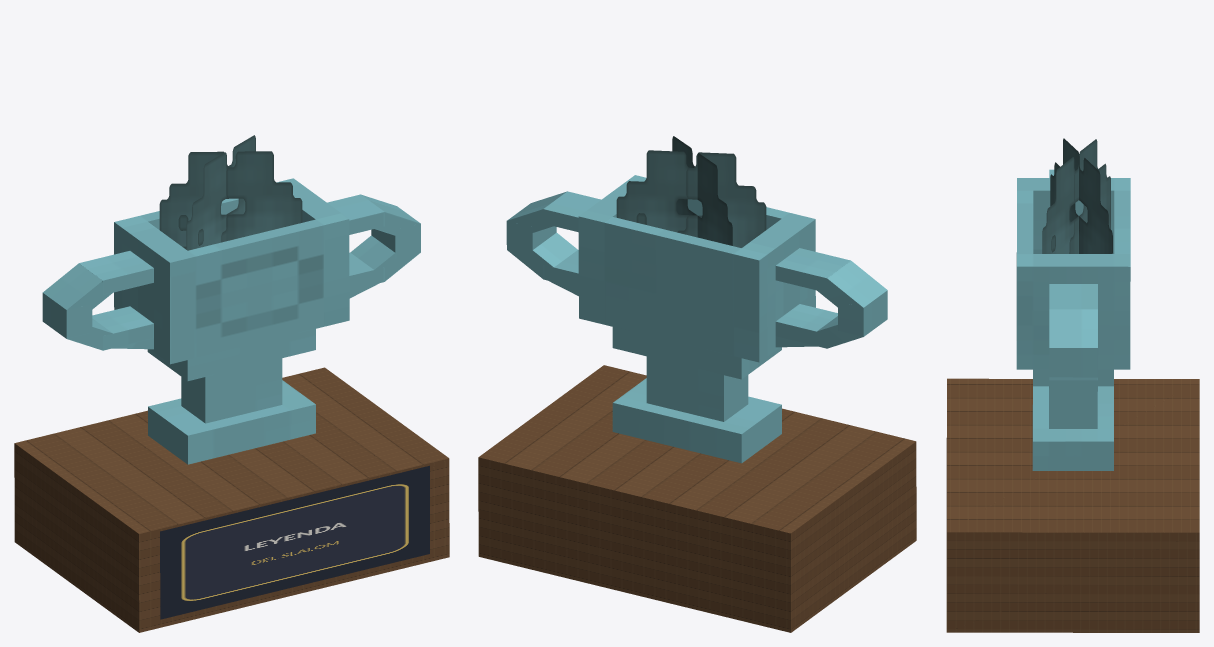
File: Leyenda_del_slalom.obj
3 views of the same model, side by side, from view 1: azimuth 30°, elevation 25°; view 2: azimuth 150°, elevation 25°; view 3: azimuth 270°, elevation 25° (orthographic).
Visible parts, largest first — view 1: 35_Peana_Leyenda_del_Slalom, 35_PeanaTexto_Leyenda_del_Slalom, 36_ModeloOriginalSketchfab_Leyenda_del_Slalom_cube_1, 36_ModeloOriginalSketchfab_Leyenda_del_Slalom_cube_3, 36_ModeloOriginalSketchfab_Leyenda_del_Slalom_cube_20, 36_ModeloOriginalSketchfab_Leyenda_del_Slalom_cube_18, 36_ModeloOriginalSketchfab_Leyenda_del_Slalom_cube_17, 36_ModeloOriginalSketchfab_Leyenda_del_Slalom_cube_2, 36_ModeloOriginalSketchfab_Leyenda_del_Slalom_cube_19, 36_ModeloOriginalSketchfab_Leyenda_del_Slalom_cube_16, 36_ModeloOriginalSketchfab_Leyenda_del_Slalom_cube_13, 36_ModeloOriginalSketchfab_Leyenda_del_Slalom_cube_12 (+7 smaller); view 2: 35_Peana_Leyenda_del_Slalom, 36_ModeloOriginalSketchfab_Leyenda_del_Slalom_cube, 36_ModeloOriginalSketchfab_Leyenda_del_Slalom_cube_3, 36_ModeloOriginalSketchfab_Leyenda_del_Slalom_cube_19, 36_ModeloOriginalSketchfab_Leyenda_del_Slalom_cube_18, 36_ModeloOriginalSketchfab_Leyenda_del_Slalom_cube_17, 36_ModeloOriginalSketchfab_Leyenda_del_Slalom_cube_2, 36_ModeloOriginalSketchfab_Leyenda_del_Slalom_cube_16, 36_ModeloOriginalSketchfab_Leyenda_del_Slalom_cube_20, 36_ModeloOriginalSketchfab_Leyenda_del_Slalom_cube_13, 36_ModeloOriginalSketchfab_Leyenda_del_Slalom_cube_12, 36_ModeloOriginalSketchfab_Leyenda_del_Slalom_cube_9 (+6 smaller); view 3: 35_Peana_Leyenda_del_Slalom, 36_ModeloOriginalSketchfab_Leyenda_del_Slalom_cube_2, 36_ModeloOriginalSketchfab_Leyenda_del_Slalom_cube_18, 36_ModeloOriginalSketchfab_Leyenda_del_Slalom_cube_20, 36_ModeloOriginalSketchfab_Leyenda_del_Slalom_cube_19, 36_ModeloOriginalSketchfab_Leyenda_del_Slalom_cube_17, 36_ModeloOriginalSketchfab_Leyenda_del_Slalom_cube_7, 36_ModeloOriginalSketchfab_Leyenda_del_Slalom_cube_3, 36_ModeloOriginalSketchfab_Leyenda_del_Slalom_cube_8, 36_ModeloOriginalSketchfab_Leyenda_del_Slalom_cube_4, 36_ModeloOriginalSketchfab_Leyenda_del_Slalom_cube_1, 36_ModeloOriginalSketchfab_Leyenda_del_Slalom_cube (+1 smaller).
Boxes of the visible parts, bbox=[...] form: 35_Peana_Leyenda_del_Slalom: bbox=[14, 367, 449, 632]; 35_PeanaTexto_Leyenda_del_Slalom: bbox=[160, 465, 429, 619]; 36_ModeloOriginalSketchfab_Leyenda_del_Slalom_cube_1: bbox=[188, 219, 323, 357]; 36_ModeloOriginalSketchfab_Leyenda_del_Slalom_cube_3: bbox=[114, 216, 195, 364]; 36_ModeloOriginalSketchfab_Leyenda_del_Slalom_cube_20: bbox=[159, 151, 302, 249]; 36_ModeloOriginalSketchfab_Leyenda_del_Slalom_cube_18: bbox=[148, 380, 315, 464]; 36_ModeloOriginalSketchfab_Leyenda_del_Slalom_cube_17: bbox=[181, 358, 282, 423]; 36_ModeloOriginalSketchfab_Leyenda_del_Slalom_cube_2: bbox=[276, 178, 349, 326]; 36_ModeloOriginalSketchfab_Leyenda_del_Slalom_cube_19: bbox=[186, 135, 255, 250]; 36_ModeloOriginalSketchfab_Leyenda_del_Slalom_cube_16: bbox=[147, 329, 315, 380]; 36_ModeloOriginalSketchfab_Leyenda_del_Slalom_cube_13: bbox=[79, 251, 153, 294]; 36_ModeloOriginalSketchfab_Leyenda_del_Slalom_cube_12: bbox=[43, 263, 112, 309]; 35_Peana_Leyenda_del_Slalom: bbox=[478, 365, 916, 632]; 36_ModeloOriginalSketchfab_Leyenda_del_Slalom_cube: bbox=[604, 217, 741, 356]; 36_ModeloOriginalSketchfab_Leyenda_del_Slalom_cube_3: bbox=[733, 213, 815, 362]; 36_ModeloOriginalSketchfab_Leyenda_del_Slalom_cube_19: bbox=[616, 150, 766, 247]; 36_ModeloOriginalSketchfab_Leyenda_del_Slalom_cube_18: bbox=[612, 378, 781, 463]; 36_ModeloOriginalSketchfab_Leyenda_del_Slalom_cube_17: bbox=[646, 356, 748, 421]; 36_ModeloOriginalSketchfab_Leyenda_del_Slalom_cube_2: bbox=[578, 175, 646, 324]; 36_ModeloOriginalSketchfab_Leyenda_del_Slalom_cube_16: bbox=[612, 327, 781, 379]; 36_ModeloOriginalSketchfab_Leyenda_del_Slalom_cube_20: bbox=[672, 136, 732, 245]; 36_ModeloOriginalSketchfab_Leyenda_del_Slalom_cube_13: bbox=[775, 248, 850, 292]; 36_ModeloOriginalSketchfab_Leyenda_del_Slalom_cube_12: bbox=[817, 261, 887, 307]; 36_ModeloOriginalSketchfab_Leyenda_del_Slalom_cube_9: bbox=[775, 304, 837, 348]; 35_Peana_Leyenda_del_Slalom: bbox=[946, 378, 1199, 632]; 36_ModeloOriginalSketchfab_Leyenda_del_Slalom_cube_2: bbox=[1016, 254, 1130, 369]; 36_ModeloOriginalSketchfab_Leyenda_del_Slalom_cube_18: bbox=[1032, 386, 1113, 470]; 36_ModeloOriginalSketchfab_Leyenda_del_Slalom_cube_20: bbox=[1042, 139, 1110, 253]; 36_ModeloOriginalSketchfab_Leyenda_del_Slalom_cube_19: bbox=[1050, 138, 1112, 253]; 36_ModeloOriginalSketchfab_Leyenda_del_Slalom_cube_17: bbox=[1049, 386, 1097, 428]; 36_ModeloOriginalSketchfab_Leyenda_del_Slalom_cube_7: bbox=[1049, 309, 1097, 347]; 36_ModeloOriginalSketchfab_Leyenda_del_Slalom_cube_3: bbox=[1016, 178, 1130, 264]; 36_ModeloOriginalSketchfab_Leyenda_del_Slalom_cube_8: bbox=[1049, 348, 1097, 377]; 36_ModeloOriginalSketchfab_Leyenda_del_Slalom_cube_4: bbox=[1049, 284, 1097, 309]; 36_ModeloOriginalSketchfab_Leyenda_del_Slalom_cube_1: bbox=[1016, 190, 1033, 327]; 36_ModeloOriginalSketchfab_Leyenda_del_Slalom_cube: bbox=[1114, 190, 1130, 253].
Bounding box in the file's own units: 0.4832 × 0.6603 × 0.2964.
